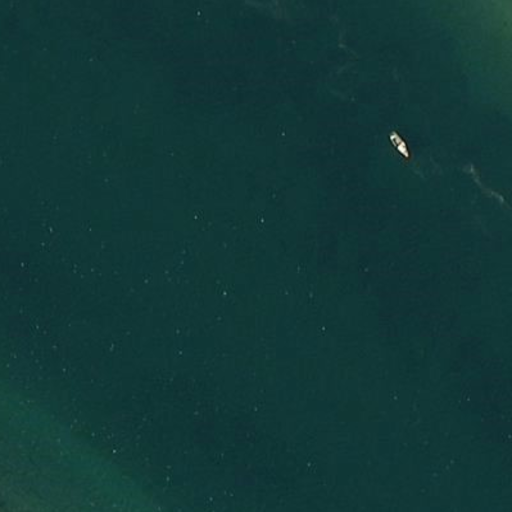ship: (386, 128, 411, 162)
